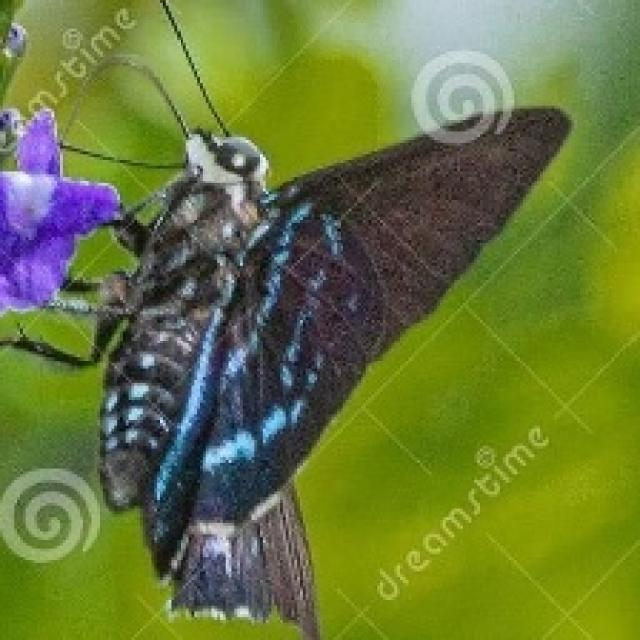butterfly: (0, 0, 571, 637)
